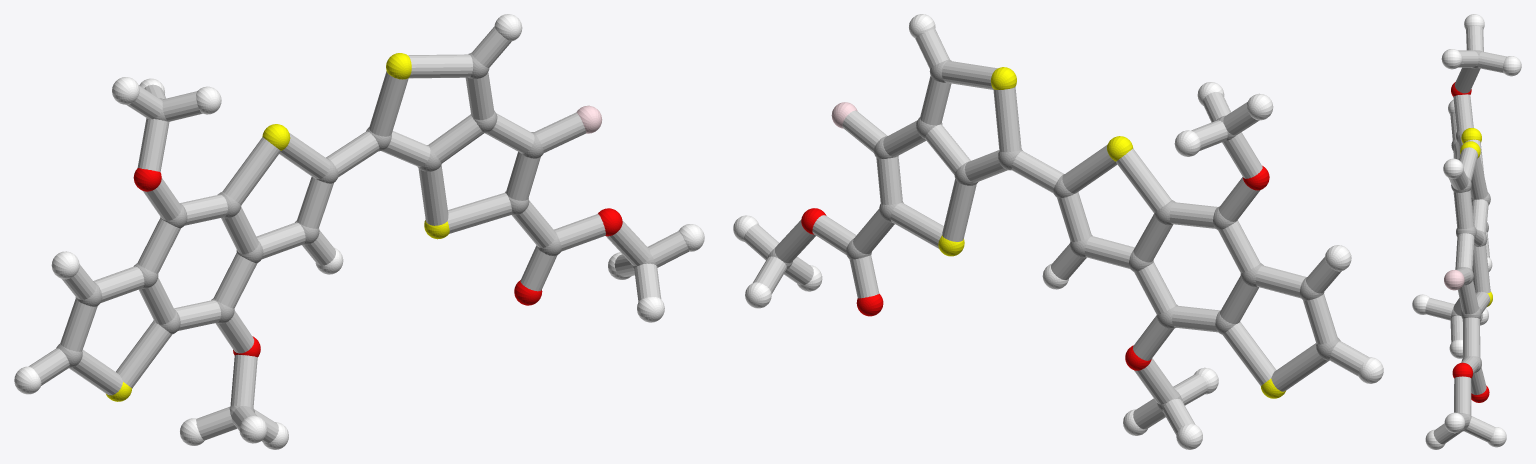
The model's file is Dimethoxy_Benzodithiophene_Phi_15_Theta_180_Methylcarbonyl_3_Fluoro_Thienothiophene.glb.
The picture shows the model from 3 angles, left to right: view 1: azimuth 30°, elevation 25°; view 2: azimuth 150°, elevation 25°; view 3: azimuth 270°, elevation 25°; orthographic projection. The views are drawn at different scales.
Parts seen in each view (by area): view 1: grp15205, grp8689, grp1, grp7241, grp13395; view 2: grp15205, grp8689, grp1, grp7241, grp13395; view 3: grp15205, grp8689, grp1, grp13395, grp7241, grp14843.
Part boxes in pixels (x1,y1,x2,y2): grp15205: [28, 26, 689, 443]; grp8689: [14, 14, 704, 449]; grp1: [56, 52, 656, 417]; grp7241: [106, 53, 449, 401]; grp13395: [133, 168, 622, 357]; grp15205: [743, 29, 1368, 435]; grp8689: [733, 14, 1383, 449]; grp1: [768, 59, 1340, 412]; grp7241: [938, 67, 1285, 398]; grp13395: [801, 165, 1269, 370]; grp15205: [1425, 25, 1506, 444]; grp8689: [1412, 14, 1521, 449]; grp1: [1451, 50, 1490, 431]; grp13395: [1451, 82, 1489, 402]; grp7241: [1460, 128, 1492, 306]; grp14843: [1444, 270, 1464, 290].
Size of the model in its own units: 16.85 by 9.37 by 3.18.
